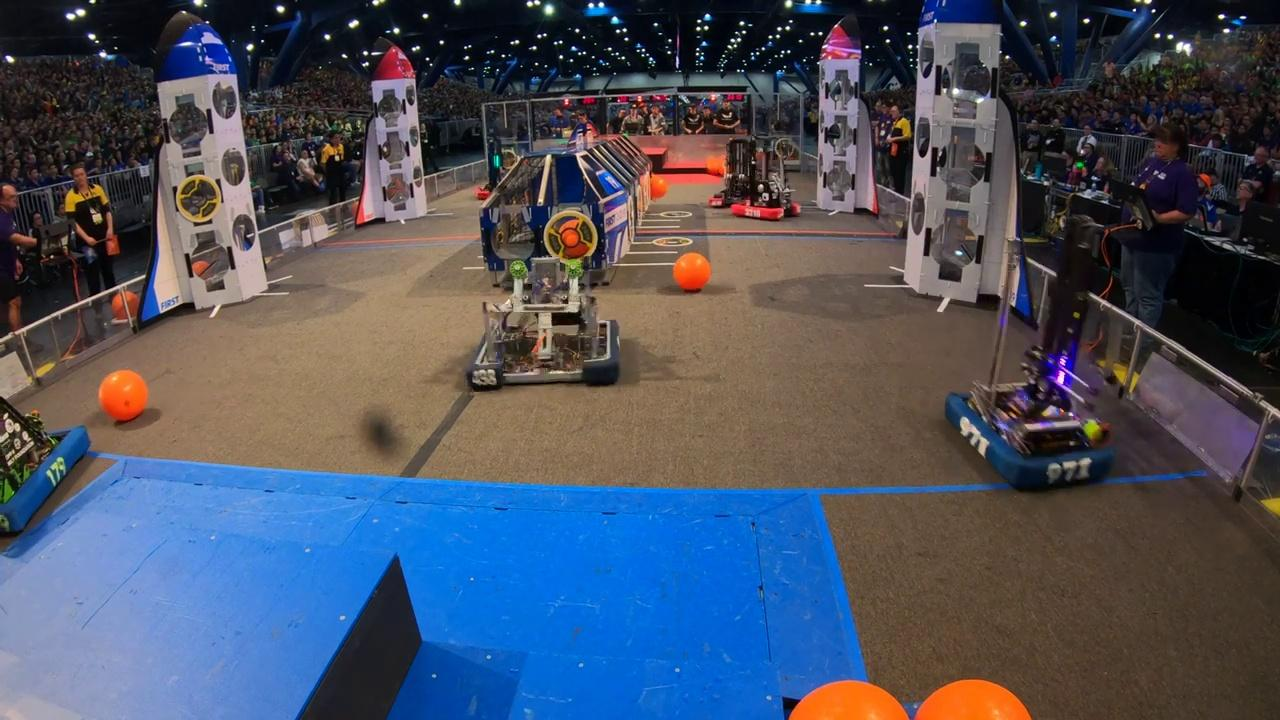robot: (945, 237, 1118, 496), (463, 259, 625, 393), (731, 151, 806, 223)
